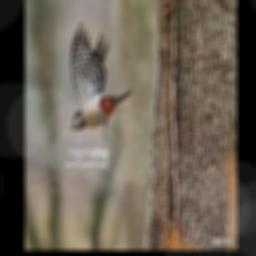Woodpecker: (70, 21, 133, 140)
